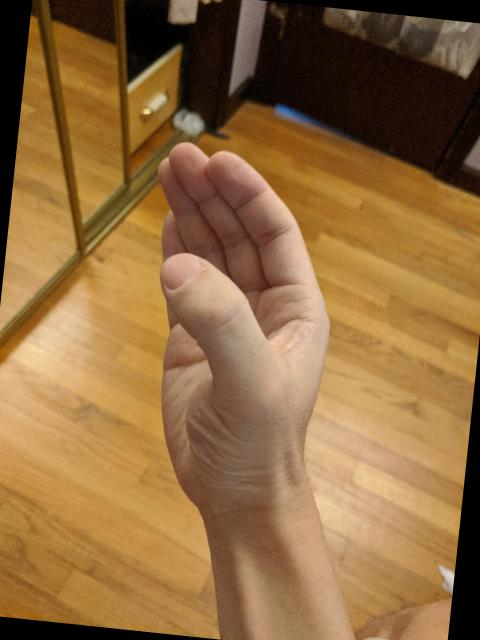C: (111, 132, 356, 538)
